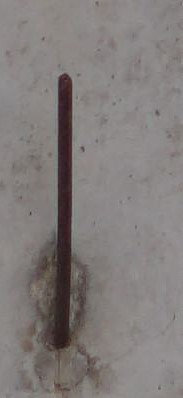Exposed reinforcement: (52, 71, 73, 349)
Spalling: (26, 240, 90, 394)
